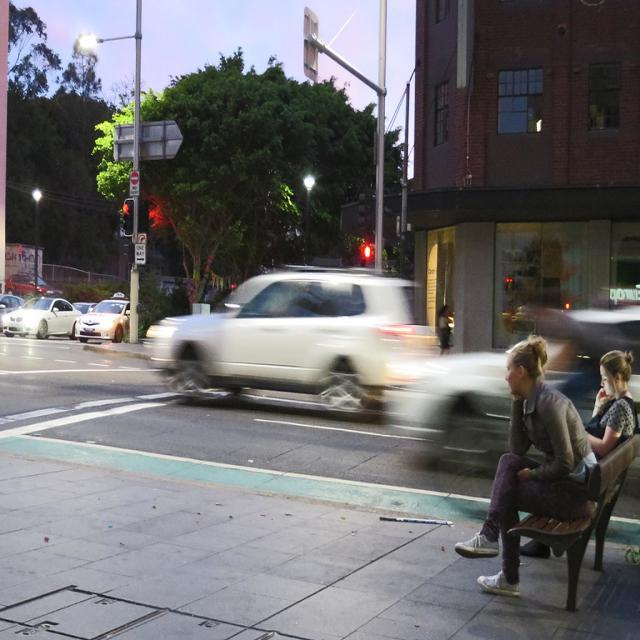traffic light: (122, 200, 132, 233)
